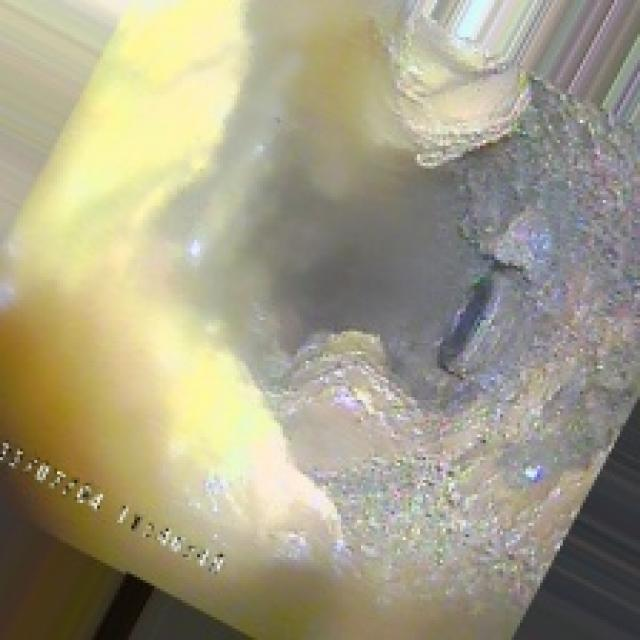encrustation: (280, 34, 580, 472)
ferrule: (429, 272, 514, 377)
